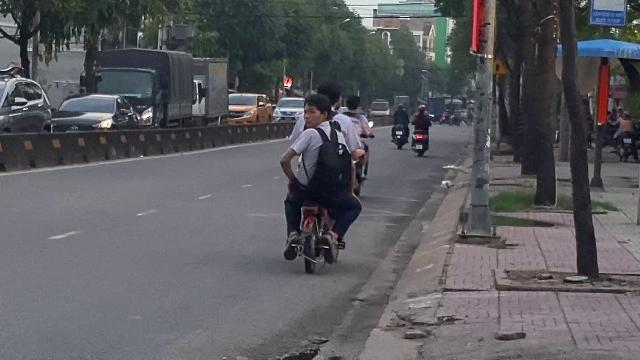motorcyclist: (276, 81, 370, 276)
nohelmet: (303, 92, 331, 126), (315, 78, 343, 106)
